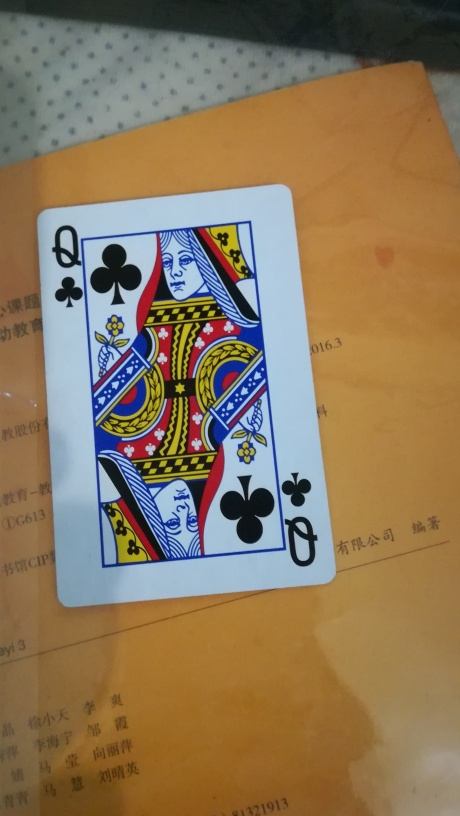mh q: (28, 186, 333, 609)
